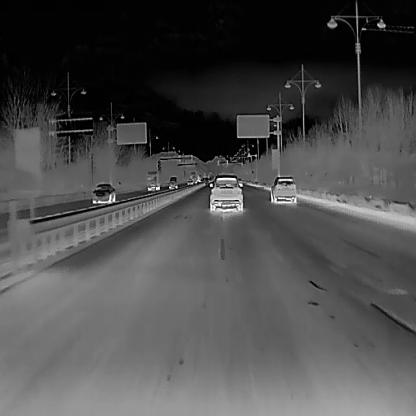car: (207, 172, 242, 210), (269, 175, 296, 202), (92, 183, 115, 204), (168, 174, 176, 188)
truck: (146, 170, 158, 190)
